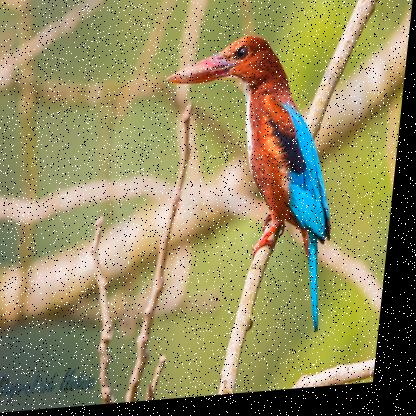Burung: (144, 33, 353, 351)
